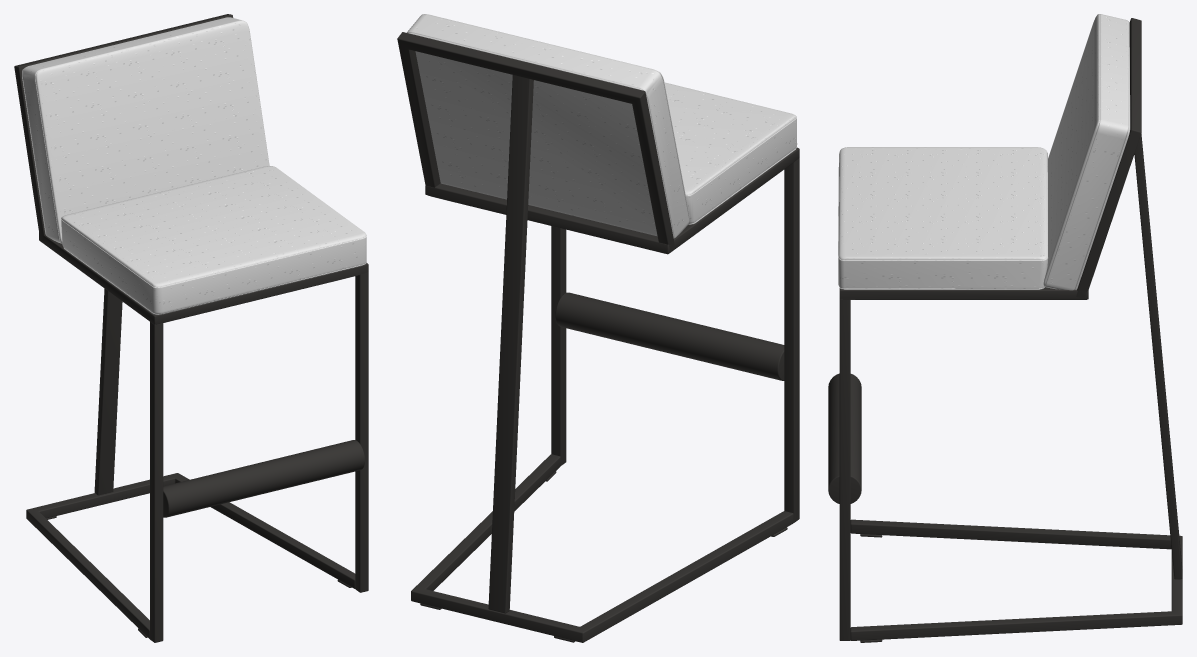
The picture shows the model from 3 angles, left to right: view 1: azimuth 30°, elevation 25°; view 2: azimuth 150°, elevation 25°; view 3: azimuth 270°, elevation 25°; orthographic projection. The views are drawn at different scales.
Visible parts, largest first — view 1: C-skp1EC9; view 2: C-skp1EC9; view 3: C-skp1EC9.
Boxes of the visible parts, x1,y1,x2,y2 form: C-skp1EC9: (14,14,368,642); C-skp1EC9: (397,14,799,642); C-skp1EC9: (828,14,1182,642).
Bounding box in the file's own units: 0.4849 × 1.05 × 0.6457.
2 materials, 1 textured.
